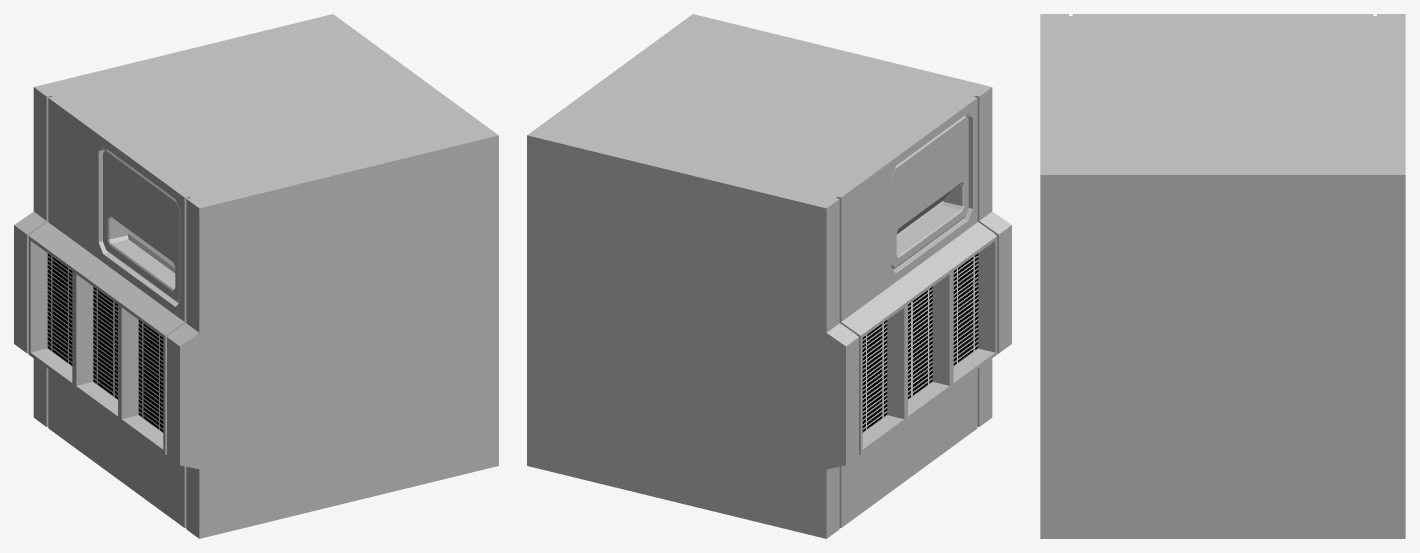
File: Desk_03_B.FBX
3 renders of one model, left to right at view 1: azimuth 30°, elevation 25°; view 2: azimuth 150°, elevation 25°; view 3: azimuth 270°, elevation 25°, orthographic. The views are drawn at different scales.
Visible parts, largest first — view 1: Desk_03_B_LOD0; view 2: Desk_03_B_LOD0; view 3: Desk_03_B_LOD0.
Boxes of the visible parts, x1,y1,x2,y2 form: Desk_03_B_LOD0: [14, 14, 498, 538]; Desk_03_B_LOD0: [527, 14, 1011, 538]; Desk_03_B_LOD0: [1040, 14, 1405, 538].
Size of what is drawn, in the model's own units: 39.99 by 39.6 by 36.
